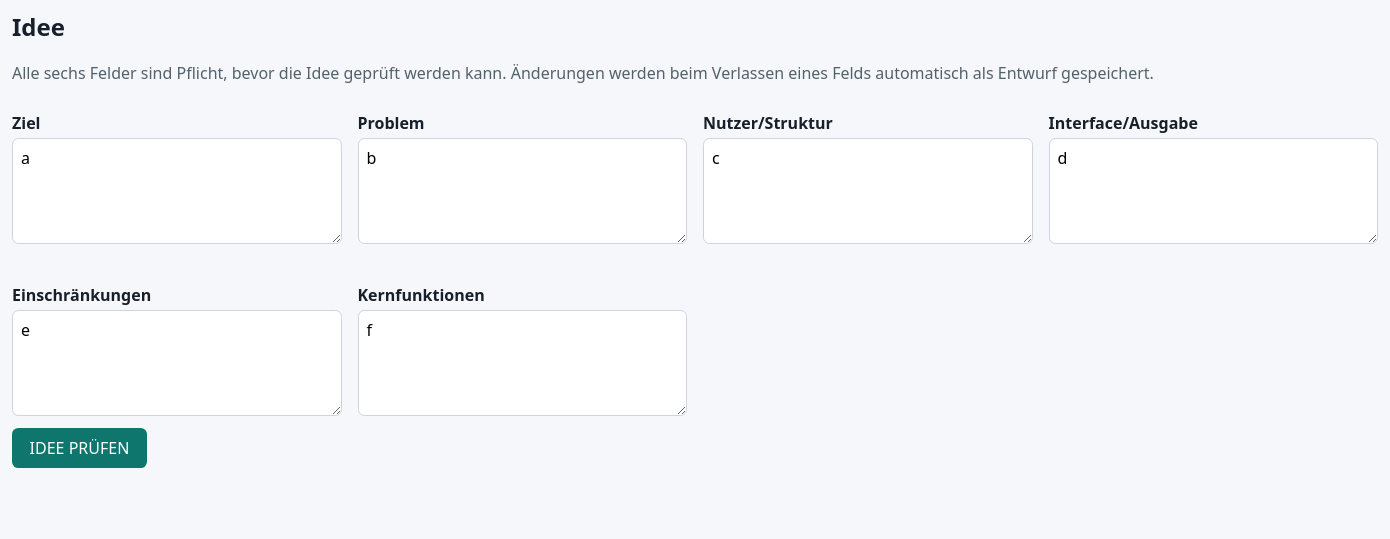
Scenario: IntakeForm (Abschnitt 3: sechs Pflichtfelder, API_CONTRACT.md § submit) › zeigt eine Fehlermeldung bei INCOMPLETE_INTAKE statt sie zu verschlucken
The image size is (1390, 539).
Step 1. Click the button "IDEE PRÜFEN" → [79, 448], box [12,428,147,468]
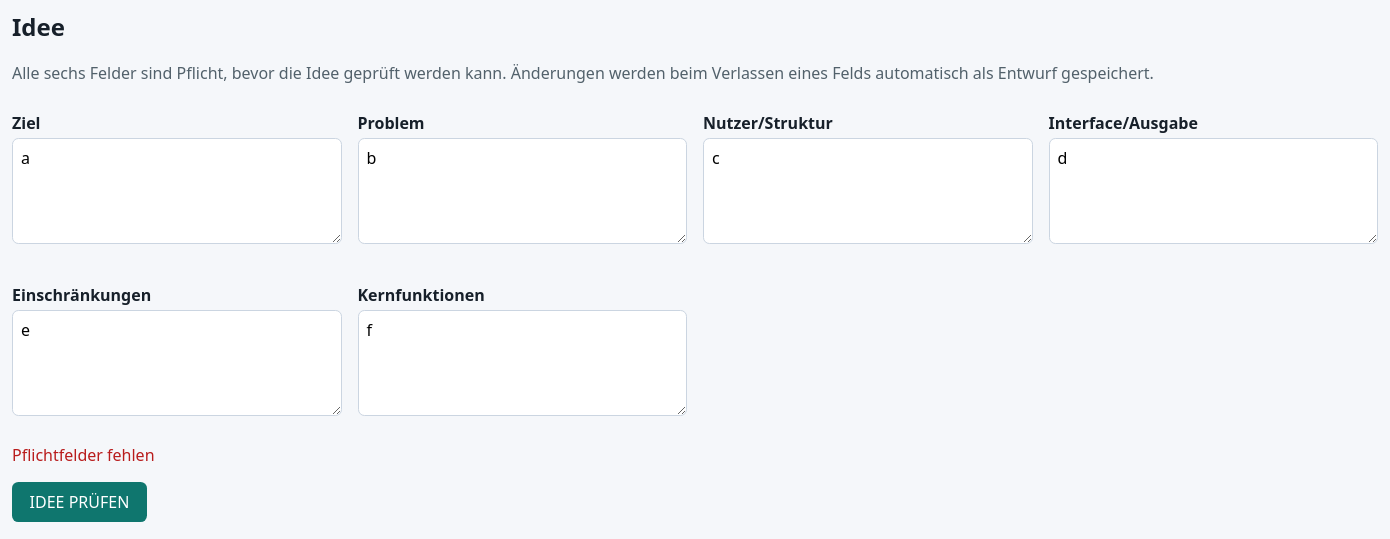
Now the message reads "Pflichtfelder fehlen", box [12,444,154,466]
